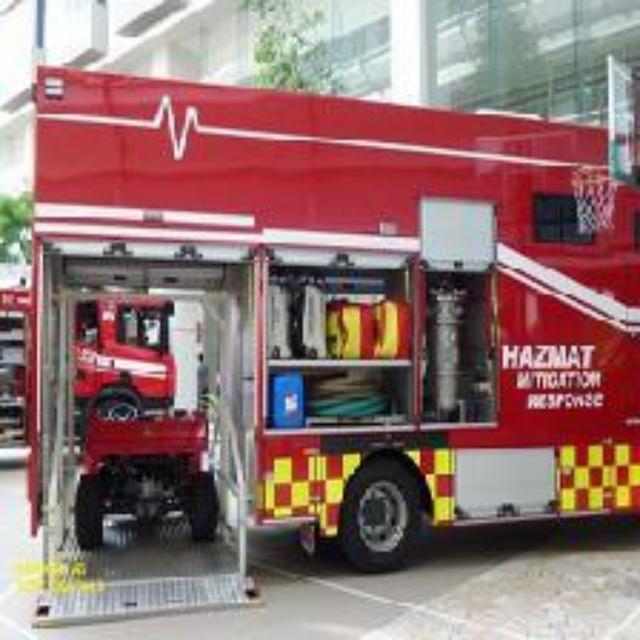emergency: (15, 59, 640, 584)
